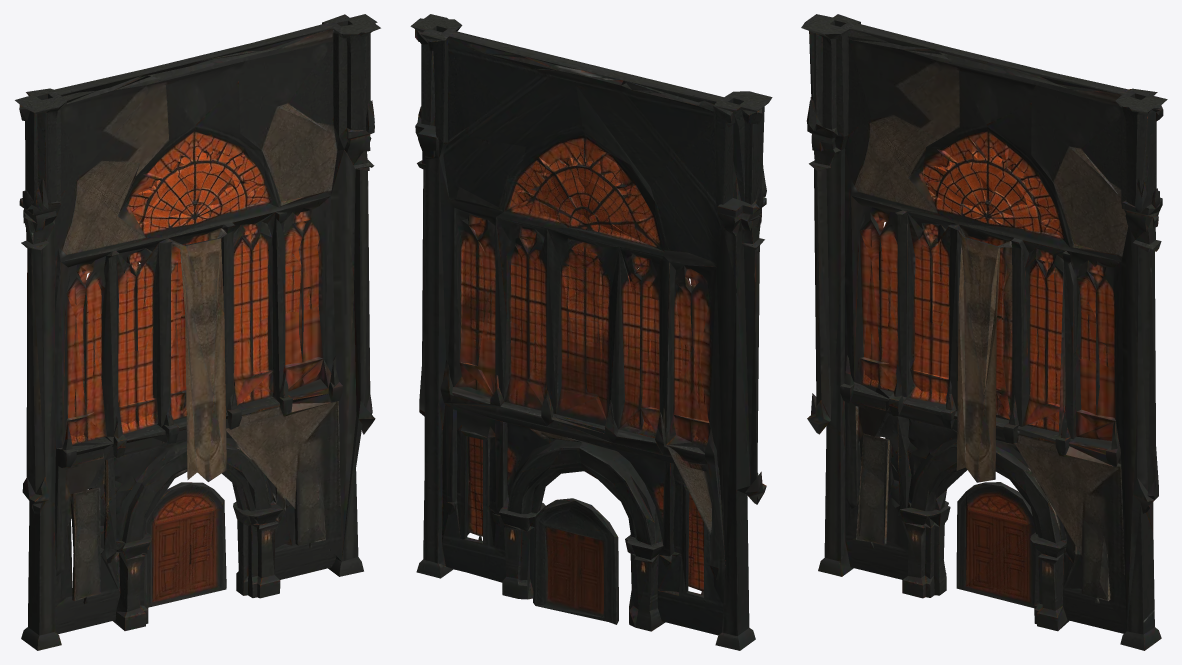
The model's file is smelters_cathedral.glb.
The picture shows the model from 3 angles, left to right: view 1: azimuth 30°, elevation 25°; view 2: azimuth 150°, elevation 25°; view 3: azimuth 330°, elevation 25°; orthographic projection.
Size of the model in its own units: 20.25 by 30 by 2.85.
1 material, 1 textured.
